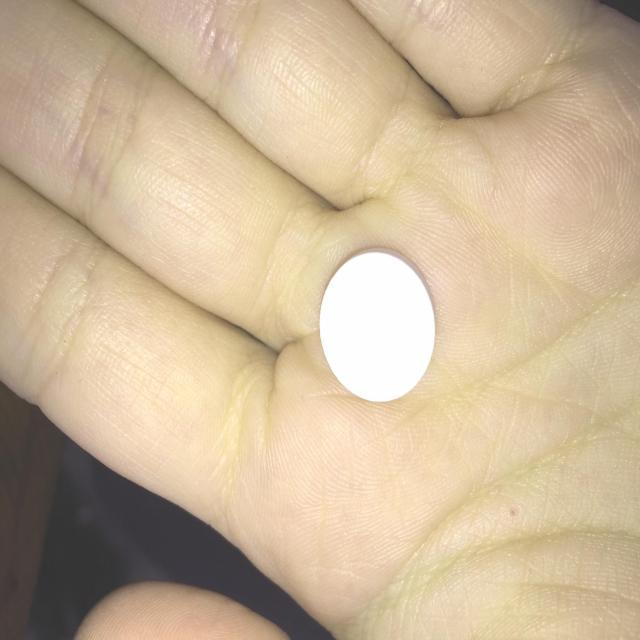pill: (312, 244, 439, 406)
